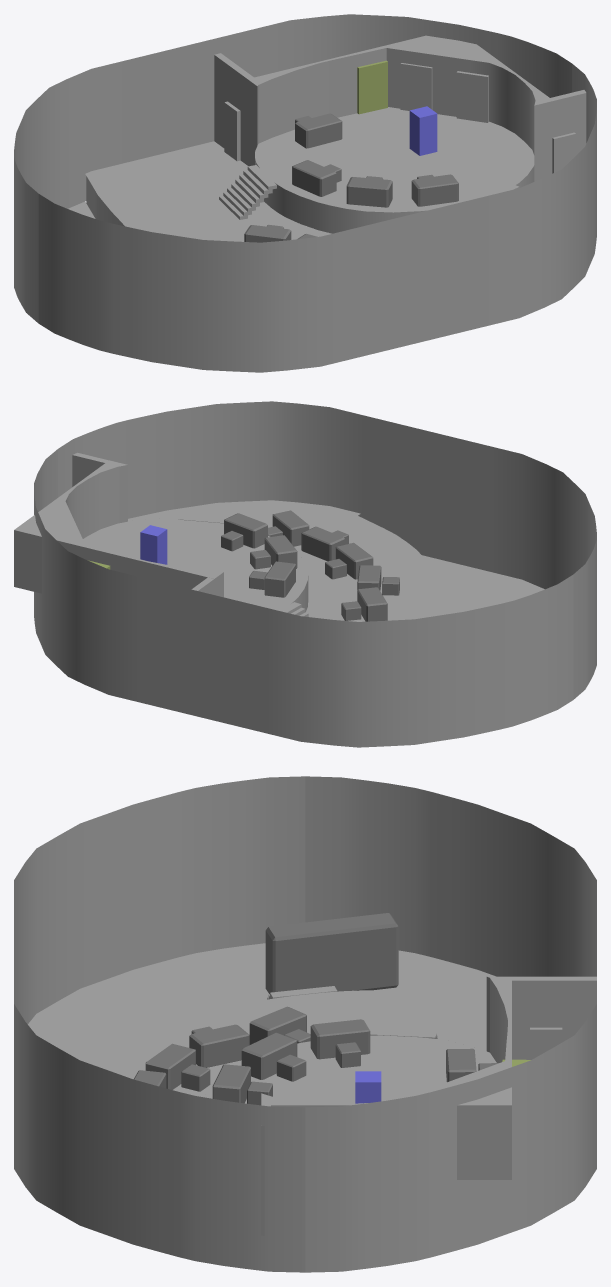
File: Proto - Sala de Segurança.fbx
The picture shows the model from 3 angles, top to bottom: view 1: azimuth 30°, elevation 25°; view 2: azimuth 150°, elevation 25°; view 3: azimuth 270°, elevation 25°; orthographic projection. The views are drawn at different scales.
Parts seen in each view (by area): view 1: medida_prédio:pCube5, polySurface2, pCube34, pCube36, pCube26, pCube20, pCube28, pCube15, pCube32, pCube30, pCube31, pCube41 (+8 smaller); view 2: medida_prédio:pCube5, pCube36, pCube34, polySurface2, pCube23, pCube43, pCube47, pCube41, pCube28, pCube45, pCube44, pCube42 (+4 smaller); view 3: medida_prédio:pCube5, pCube23, pCube36, polySurface3, polySurface2, pCube34, pCube26, pCube41, pCube42, pCube46, pCube45, pCube43 (+4 smaller).
Boxes of the visible parts, x1,y1,x2,y2 form: medida_prédio:pCube5: [14, 14, 596, 372]; polySurface2: [255, 107, 534, 212]; pCube34: [248, 35, 553, 154]; pCube36: [85, 141, 331, 241]; pCube26: [214, 53, 257, 166]; pCube20: [255, 158, 534, 233]; pCube28: [534, 90, 586, 181]; pCube15: [219, 165, 276, 219]; pCube32: [456, 71, 488, 122]; pCube30: [357, 60, 387, 114]; pCube31: [400, 63, 432, 110]; pCube41: [292, 160, 341, 196]; medida_prédio:pCube5: [34, 401, 596, 747]; pCube36: [128, 500, 446, 621]; pCube34: [14, 460, 223, 593]; polySurface2: [83, 518, 308, 610]; pCube23: [422, 555, 544, 614]; pCube43: [221, 513, 267, 551]; pCube47: [341, 587, 387, 621]; pCube41: [249, 561, 295, 597]; pCube28: [72, 452, 127, 522]; pCube45: [325, 542, 373, 579]; pCube44: [301, 526, 348, 561]; pCube42: [250, 535, 297, 569]; medida_prédio:pCube5: [14, 776, 596, 1272]; pCube23: [28, 943, 495, 1060]; pCube36: [80, 990, 486, 1096]; polySurface3: [265, 913, 398, 994]; polySurface2: [203, 1035, 496, 1103]; pCube34: [261, 976, 511, 1179]; pCube26: [512, 976, 596, 1059]; pCube41: [310, 1019, 370, 1067]; pCube42: [241, 1032, 306, 1081]; pCube46: [189, 1024, 249, 1067]; pCube45: [145, 1043, 210, 1091]; pCube43: [212, 1064, 272, 1105].
Size of the model in its own units: 24.14 by 5.73 by 17.97.
